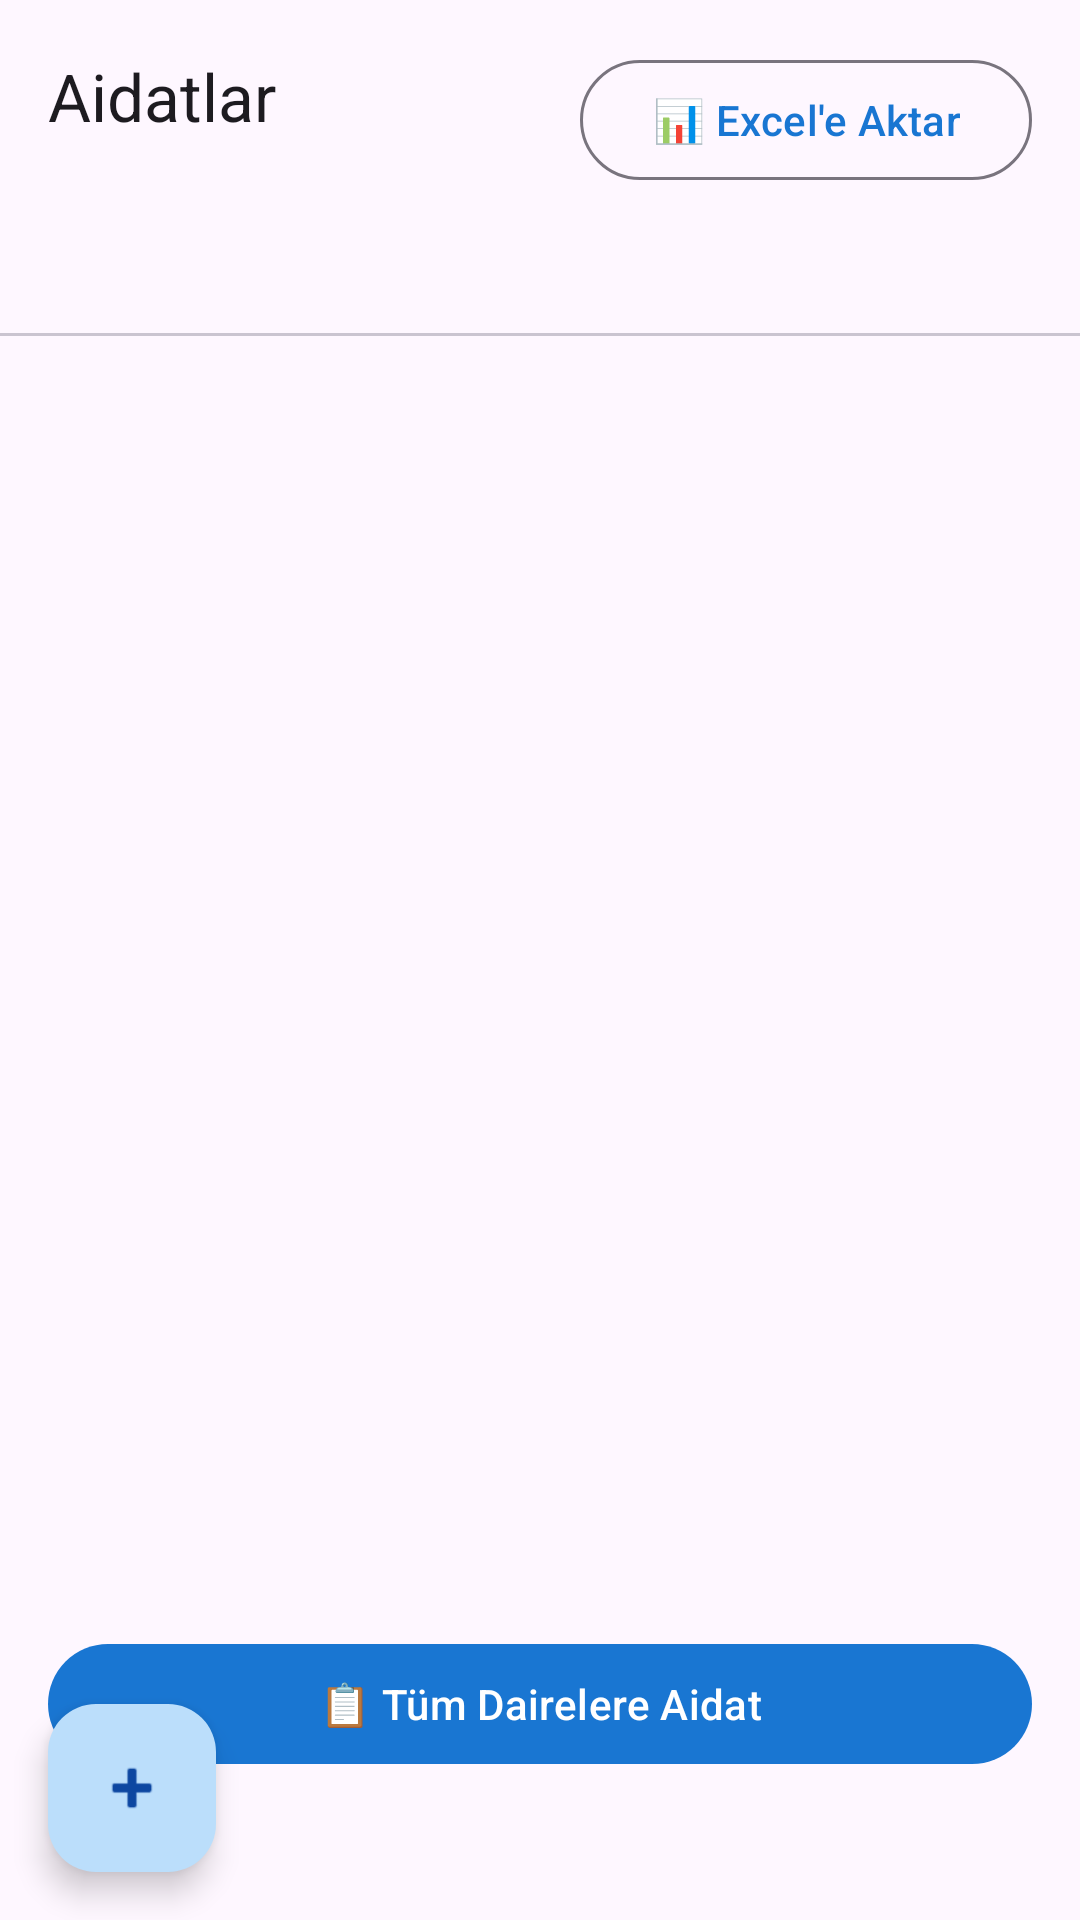

Point at icon controls on the screen. Image size 1080x1920, points as [x,y].
add: [132,1788]
